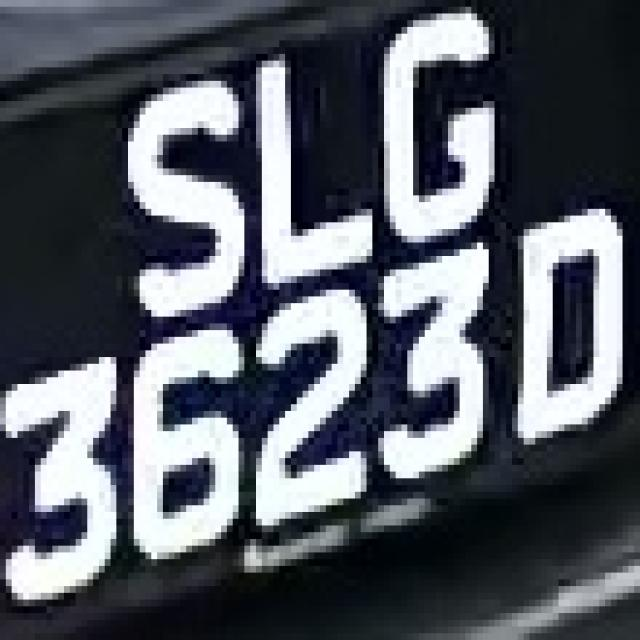2: (244, 256, 378, 519)
3: (366, 236, 494, 492), (0, 343, 116, 606)
6: (134, 310, 238, 566)
D: (506, 189, 623, 451)
G: (367, 0, 512, 243)
L: (250, 34, 378, 296)
S: (105, 67, 262, 310)
